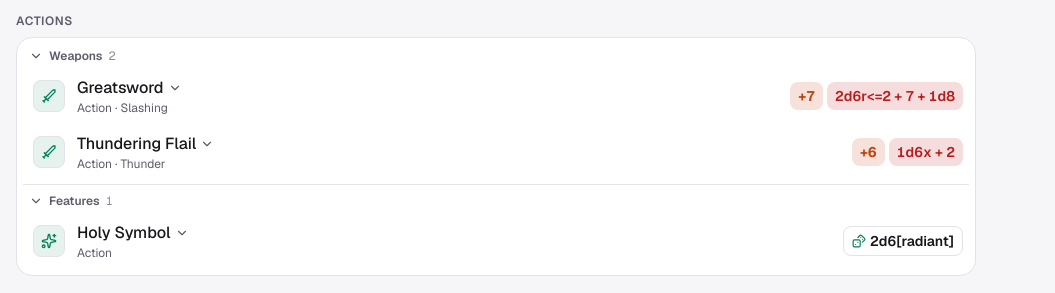
Test: action-entry: formulas with what Foundry does with their dice › offers no maximum for damage due whose dice explode, which the app can’t read against its dice: no maximum
Right-click the button named "Thundering Flail damage, 1d6x + 2" at coordinates (926, 152), box [889,138,963,166]
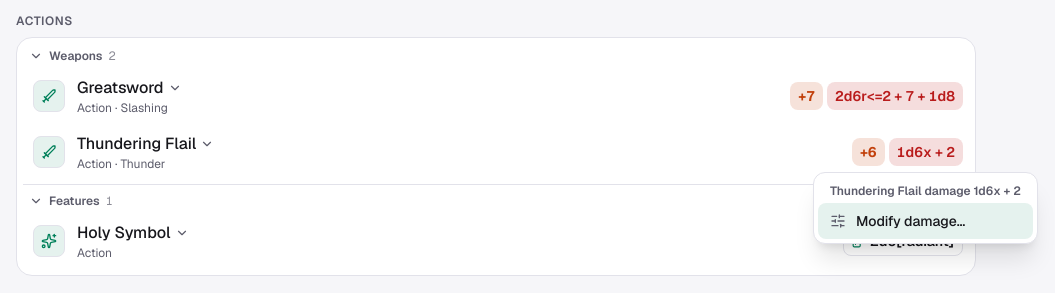
Expected: the menu items read "Modify damage…", in this order, [818,203,1033,239]
